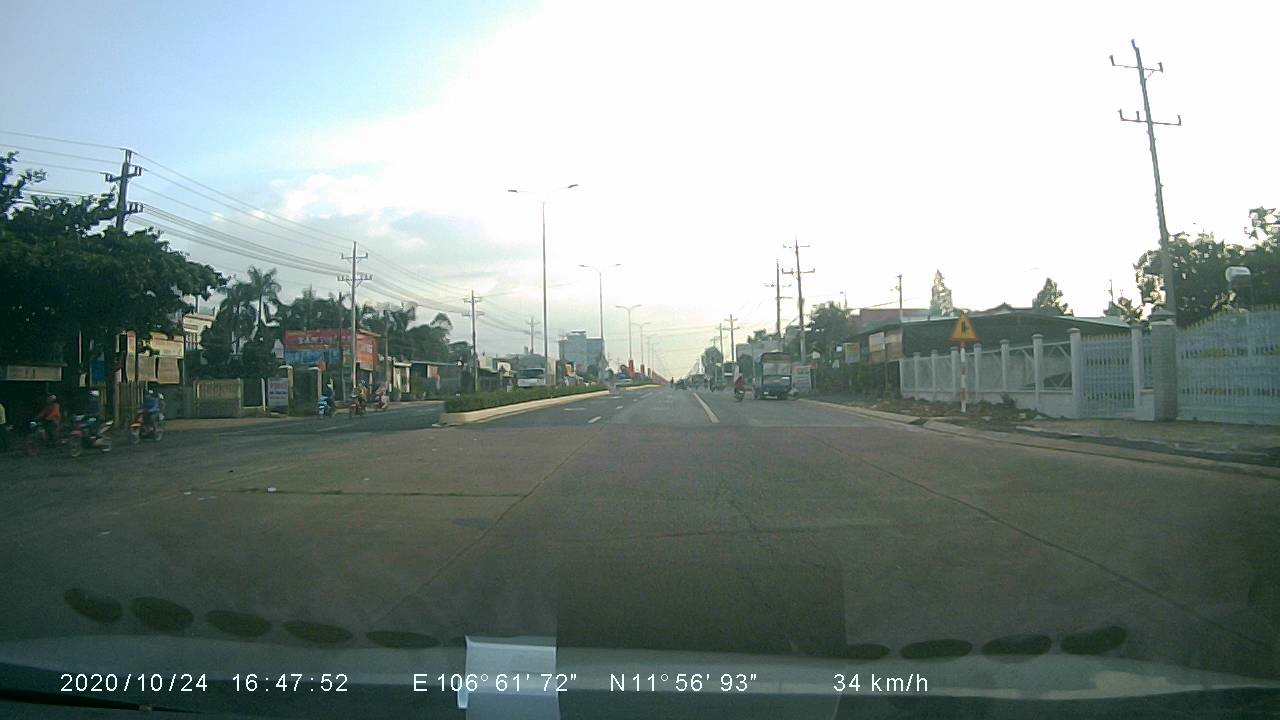Giao nhau voi duong khong uu tien: (946, 309, 980, 342)
